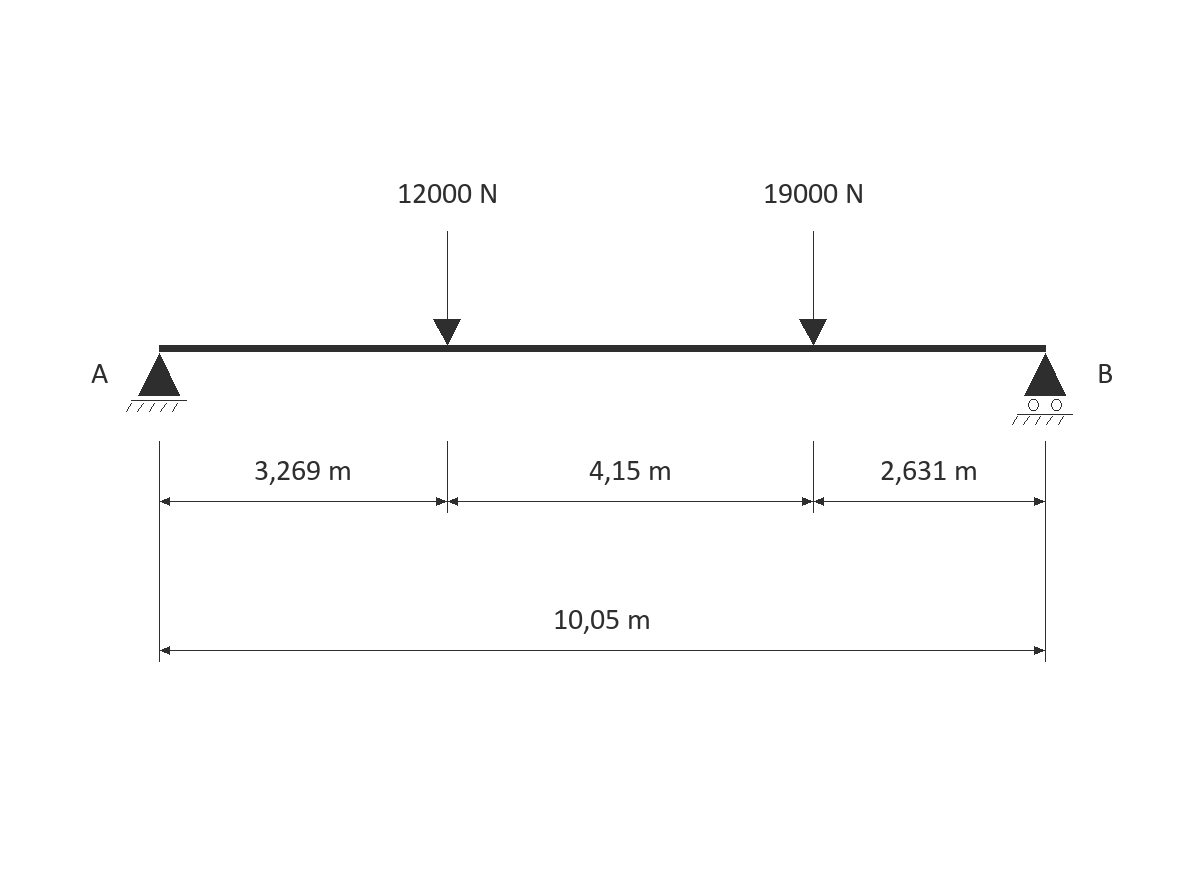pin_support: (126, 353, 187, 412)
point_load: (433, 231, 461, 345), (799, 231, 827, 345)
roller_support: (1012, 353, 1073, 425)
